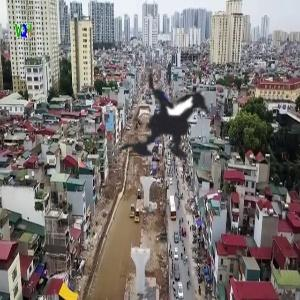drone: (74, 31, 273, 230)
